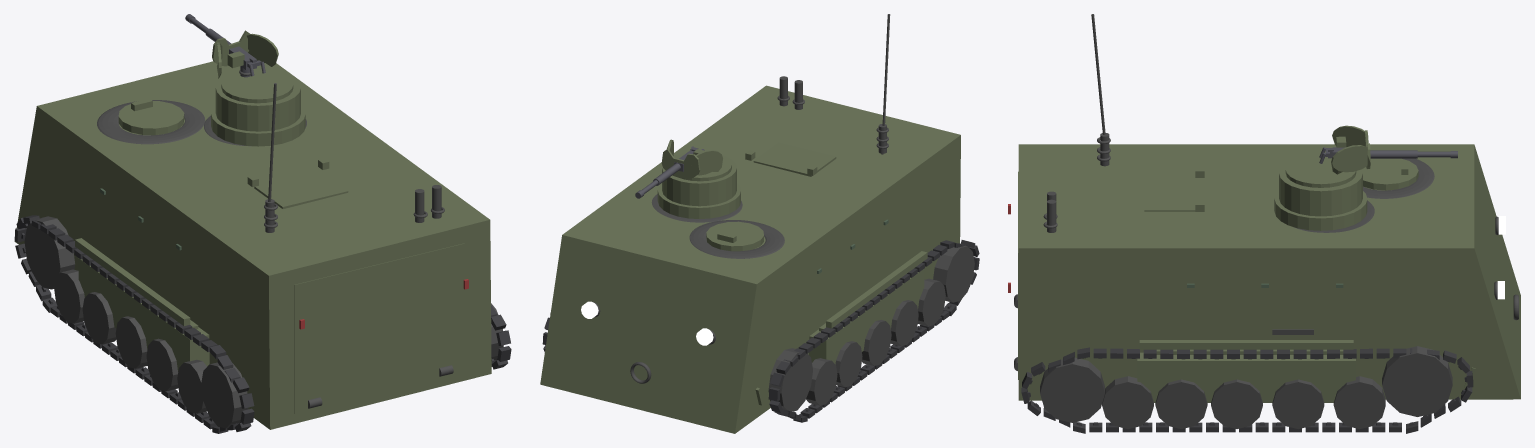
Rendered from m113_apc.glb.
3 views of the same model, side by side, from view 1: azimuth 30°, elevation 25°; view 2: azimuth 150°, elevation 25°; view 3: azimuth 270°, elevation 25° (orthographic). The views are drawn at different scales.
Visible parts, largest first — view 1: APC_Hull, Rear_Ramp, Track_L, Track_Sponson_L, Cupola_Shield, Drive_Sprocket_R.001, Cargo_Hatch, Idler_Wheel_L, Lift_Ring_-8_15, Cupola_Inner, Driver_Hatch, Cupola_Base (+9 smaller); view 2: APC_Hull, Track_L, Track_Sponson_L, Cupola_Shield, Idler_Wheel_L, Drive_Sprocket_R.001, Lift_Ring_-8_15, Cargo_Hatch, Driver_Hatch, Cupola_Base, Track_Fender_L, Road_Wheel_L_4 (+8 smaller); view 3: APC_Hull, Track_R, Track_Sponson_R, Drive_Sprocket_R, Idler_Wheel_R, Cupola_Shield, Track_Fender_R, Road_Wheel_R_0, Road_Wheel_R_4, Road_Wheel_R_3, Road_Wheel_R_1, Road_Wheel_R_2 (+7 smaller).
Boxes of the visible parts, left/top/right/bottom form: APC_Hull: left=14, top=61, right=491, bottom=429; Rear_Ramp: left=294, top=243, right=464, bottom=413; Track_L: left=14, top=215, right=254, bottom=433; Track_Sponson_L: left=78, top=258, right=209, bottom=371; Cupola_Shield: left=215, top=72, right=300, bottom=131; Drive_Sprocket_R.001: left=24, top=216, right=75, bottom=289; Cargo_Hatch: left=254, top=170, right=348, bottom=208; Idler_Wheel_L: left=201, top=362, right=248, bottom=428; Lift_Ring_-8_15: left=97, top=100, right=205, bottom=144; Cupola_Inner: left=221, top=69, right=293, bottom=103; Driver_Hatch: left=118, top=101, right=184, bottom=135; Cupola_Base: left=211, top=105, right=305, bottom=146; APC_Hull: left=540, top=85, right=960, bottom=433; Track_L: left=768, top=240, right=979, bottom=422; Track_Sponson_L: left=809, top=269, right=924, bottom=364; Cupola_Shield: left=662, top=154, right=736, bottom=206; Idler_Wheel_L: left=933, top=245, right=974, bottom=302; Drive_Sprocket_R.001: left=768, top=348, right=812, bottom=411; Lift_Ring_-8_15: left=689, top=220, right=784, bottom=258; Cargo_Hatch: left=753, top=142, right=836, bottom=176; Driver_Hatch: left=706, top=221, right=763, bottom=251; Cupola_Base: left=657, top=183, right=740, bottom=218; Track_Fender_L: left=826, top=251, right=927, bottom=328; Road_Wheel_L_4: left=806, top=358, right=837, bottom=405; APC_Hull: left=1018, top=144, right=1520, bottom=400; Track_R: left=1021, top=347, right=1473, bottom=433; Track_Sponson_R: left=1137, top=352, right=1355, bottom=402; Drive_Sprocket_R: left=1382, top=346, right=1452, bottom=416; Idler_Wheel_R: left=1040, top=357, right=1104, bottom=422; Cupola_Shield: left=1279, top=161, right=1362, bottom=216; Track_Fender_R: left=1139, top=340, right=1353, bottom=349; Road_Wheel_R_0: left=1102, top=376, right=1153, bottom=428; Road_Wheel_R_4: left=1333, top=376, right=1385, bottom=429; Road_Wheel_R_3: left=1272, top=379, right=1324, bottom=429; Road_Wheel_R_1: left=1155, top=379, right=1207, bottom=428; Road_Wheel_R_2: left=1211, top=379, right=1262, bottom=428.
Bounding box in the file's own units: 3.37 × 3.84 × 5.52.
